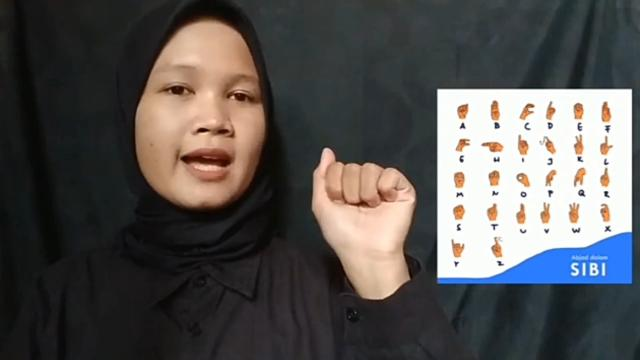A: (308, 144, 420, 262)
